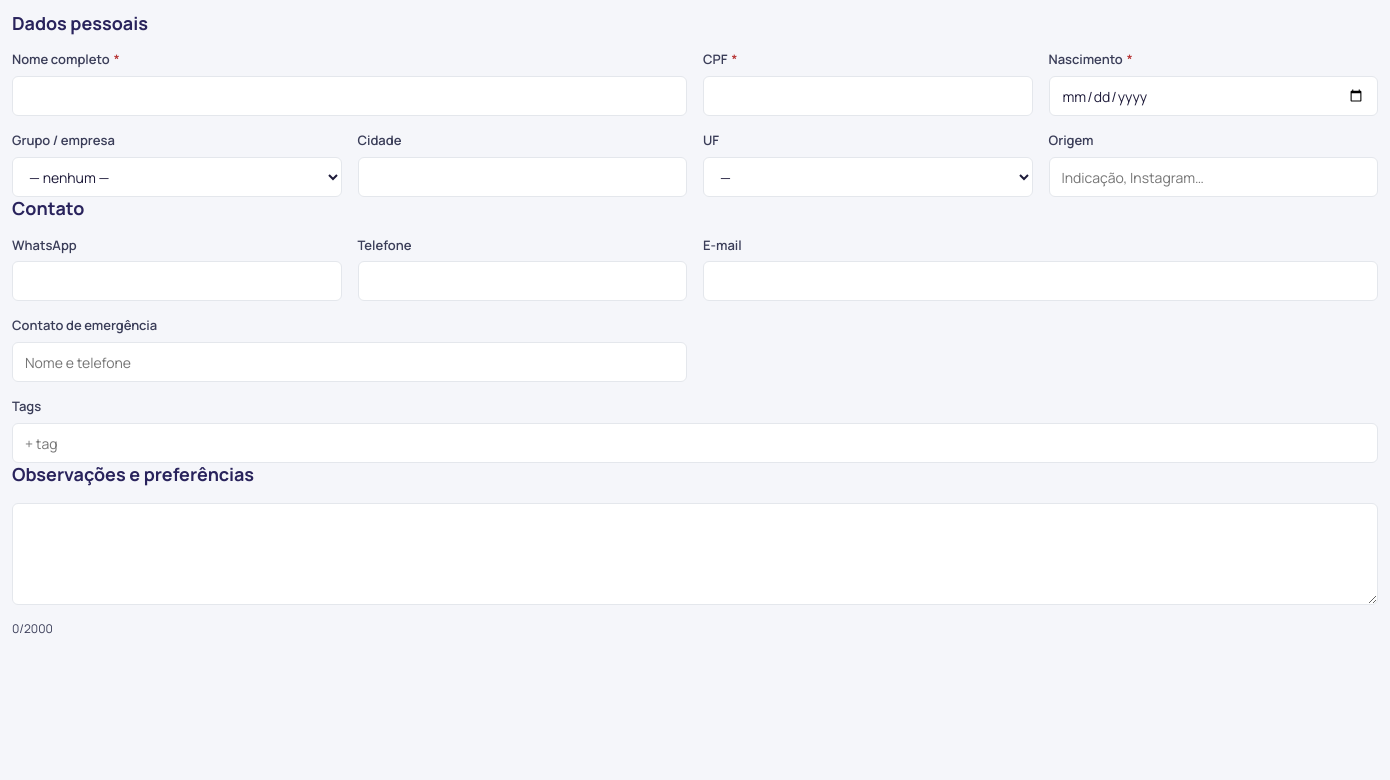
telefone com letras mostra erro local
Type "11a99876567" into the field labelled "Telefone". click: [522, 282]
box: [358, 262, 687, 302]
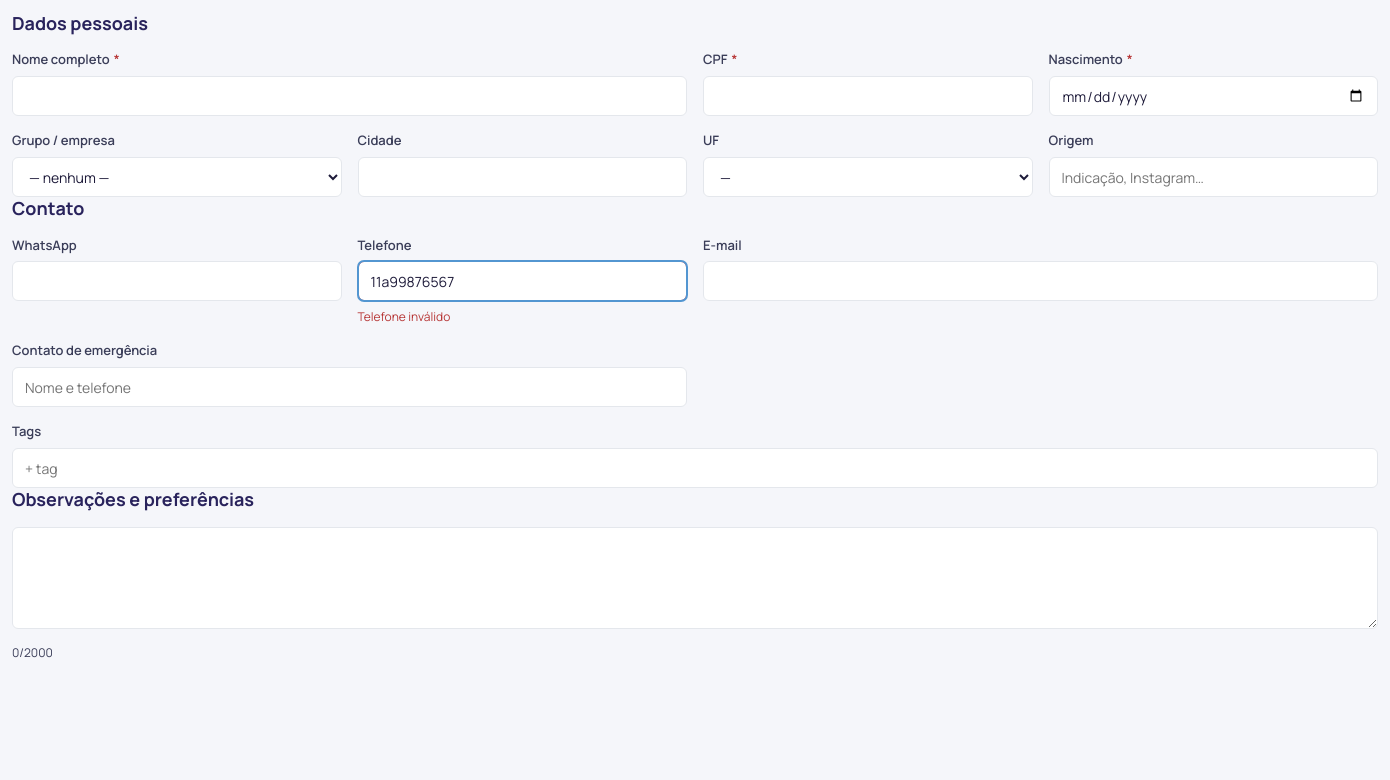
Expected: the text "Telefone inválido" is shown, [358, 308, 450, 326]
